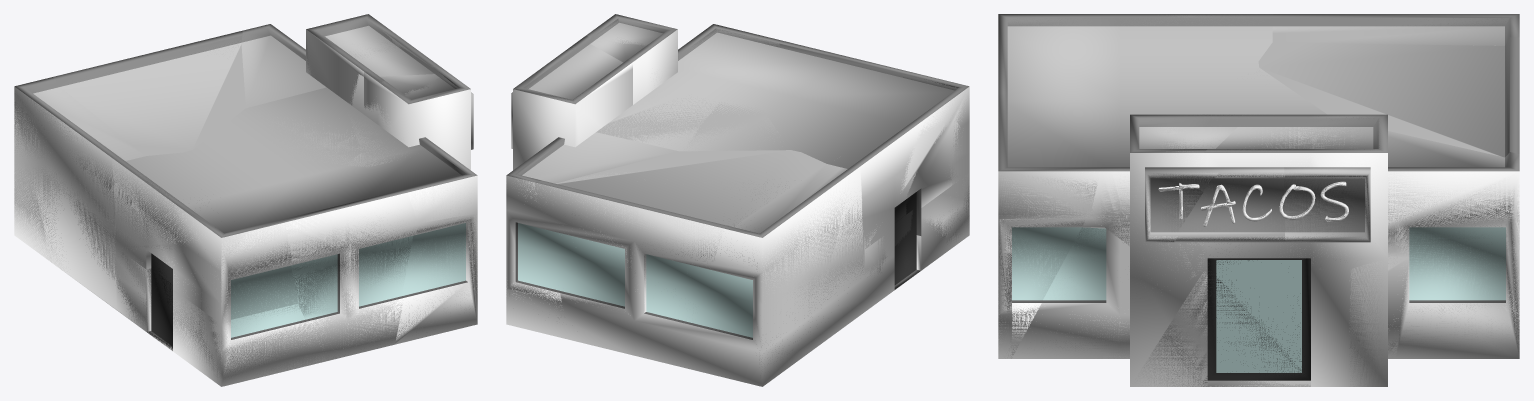
Rendered from TacoShop.fbx.
3 renders of one model, left to right at view 1: azimuth 30°, elevation 25°; view 2: azimuth 150°, elevation 25°; view 3: azimuth 270°, elevation 25°, orthographic. The views are drawn at different scales.
Parts seen in each view (by area): view 1: TacoShopNew, TacoShopBroken.003_cell.003, TacoShopBroken.003_cell, TacoShopBroken.003_cell.007, TacoShopBroken.003_cell.001, TacoShopBroken.003_cell.009, TacoShopBroken.003_cell.005, TacoShopBroken.001_cell.001, TacoShopBroken.001_cell.002, TacoShopBroken.003_cell.004, TacoShopBroken.003_cell.006, TacoShopBroken.003_cell.008; view 2: TacoShopNew, TacoShopBroken.003_cell, TacoShopBroken.003_cell.003, TacoShopBroken.001_cell.002, TacoShopBroken.003_cell.008, TacoShopBroken.003_cell.004, TacoShopBroken.003_cell.001, TacoShopBroken.003_cell.005, TacoShopBroken.001_cell.001, TacoShopBroken.003_cell.007; view 3: TacoShopNew, TacoShopBroken.003_cell.004, TacoShopBroken.003_cell, TacoShopBroken.003_cell.009, TacoShopBroken.002_cell.002, TacoShopBroken.003_cell.003, TacoShopBroken.001_cell, TacoShopBroken.001_cell.004, TacoShopBroken.001_cell.002, TacoShopBroken.002_cell.001, TacoShopBroken.003_cell.006, TacoShopBroken.002_cell.005 (+5 smaller).
Part boxes in pixels (x1=…): TacoShopNew: x1=14, y1=14, x2=477, y2=386; TacoShopBroken.003_cell.003: x1=14, y1=77, x2=145, y2=309; TacoShopBroken.003_cell: x1=53, y1=30, x2=245, y2=155; TacoShopBroken.003_cell.007: x1=285, y1=204, x2=417, y2=359; TacoShopBroken.003_cell.001: x1=112, y1=158, x2=297, y2=324; TacoShopBroken.003_cell.009: x1=395, y1=213, x2=477, y2=344; TacoShopBroken.003_cell.005: x1=116, y1=249, x2=324, y2=386; TacoShopBroken.001_cell.001: x1=364, y1=71, x2=470, y2=170; TacoShopBroken.001_cell.002: x1=306, y1=17, x2=436, y2=105; TacoShopBroken.003_cell.004: x1=241, y1=24, x2=326, y2=108; TacoShopBroken.003_cell.006: x1=408, y1=147, x2=477, y2=223; TacoShopBroken.003_cell.008: x1=245, y1=113, x2=428, y2=166; TacoShopNew: x1=506, y1=14, x2=969, y2=386; TacoShopBroken.003_cell: x1=535, y1=150, x2=826, y2=325; TacoShopBroken.003_cell.003: x1=693, y1=164, x2=864, y2=375; TacoShopBroken.001_cell.002: x1=523, y1=35, x2=632, y2=146; TacoShopBroken.003_cell.008: x1=596, y1=55, x2=778, y2=150; TacoShopBroken.003_cell.004: x1=506, y1=132, x2=678, y2=317; TacoShopBroken.003_cell.001: x1=854, y1=79, x2=969, y2=248; TacoShopBroken.003_cell.005: x1=865, y1=173, x2=969, y2=277; TacoShopBroken.001_cell.001: x1=586, y1=18, x2=666, y2=85; TacoShopBroken.003_cell.007: x1=779, y1=43, x2=902, y2=77; TacoShopNew: x1=998, y1=14, x2=1519, y2=386; TacoShopBroken.003_cell.004: x1=1388, y1=131, x2=1519, y2=358; TacoShopBroken.003_cell: x1=1258, y1=37, x2=1519, y2=157; TacoShopBroken.003_cell.009: x1=998, y1=218, x2=1085, y2=358; TacoShopBroken.002_cell.002: x1=1284, y1=167, x2=1370, y2=242; TacoShopBroken.003_cell.003: x1=1272, y1=14, x2=1519, y2=45; TacoShopBroken.001_cell: x1=1349, y1=259, x2=1387, y2=386; TacoShopBroken.001_cell.004: x1=1131, y1=271, x2=1310, y2=386; TacoShopBroken.001_cell.002: x1=1204, y1=114, x2=1387, y2=269; TacoShopBroken.002_cell.001: x1=1145, y1=172, x2=1218, y2=242; TacoShopBroken.003_cell.006: x1=998, y1=171, x2=1098, y2=218; TacoShopBroken.002_cell.005: x1=1175, y1=172, x2=1285, y2=242.
Size of the model in its own units: 110 by 63.07 by 127.
